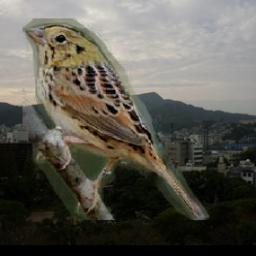Sparrow: (23, 18, 210, 220)
